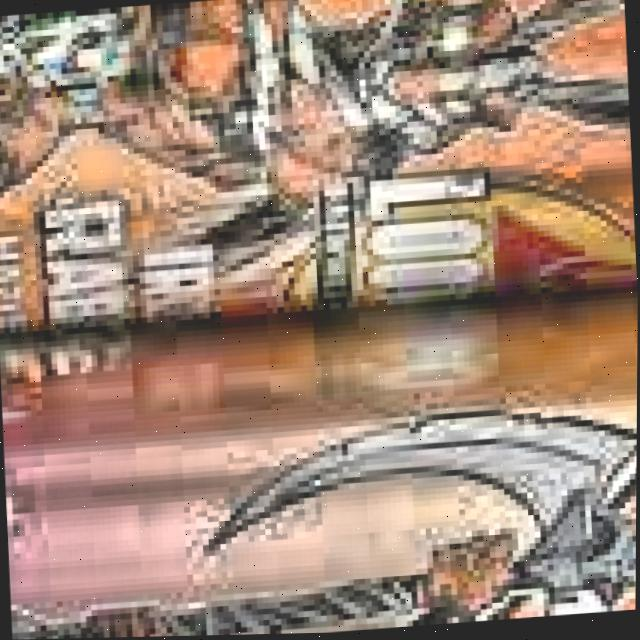metal: (0, 289, 638, 640), (0, 0, 639, 339)
